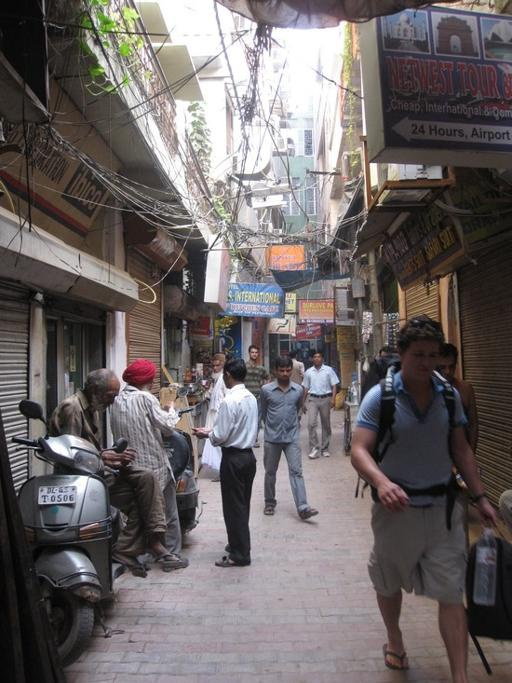non-vehicle: (8, 397, 127, 667), (157, 385, 208, 534)
